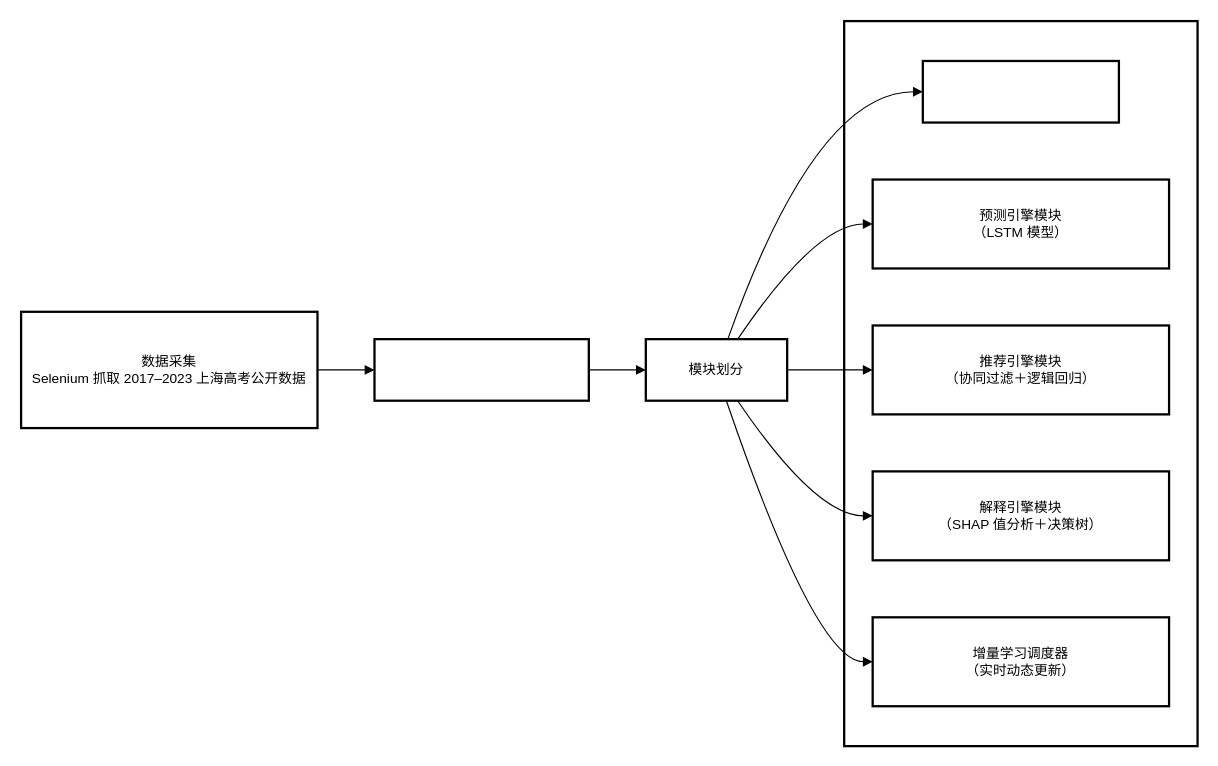
The diagram is 1218 pixels wide and 766 high, and some of its shapes have lost their labels. The box of each missing label's shape, as (x1, y1, x2, y2) in pixels:
数据库设计与存储: (373, 337, 589, 401)
数据预处理模块: (921, 59, 1119, 123)
